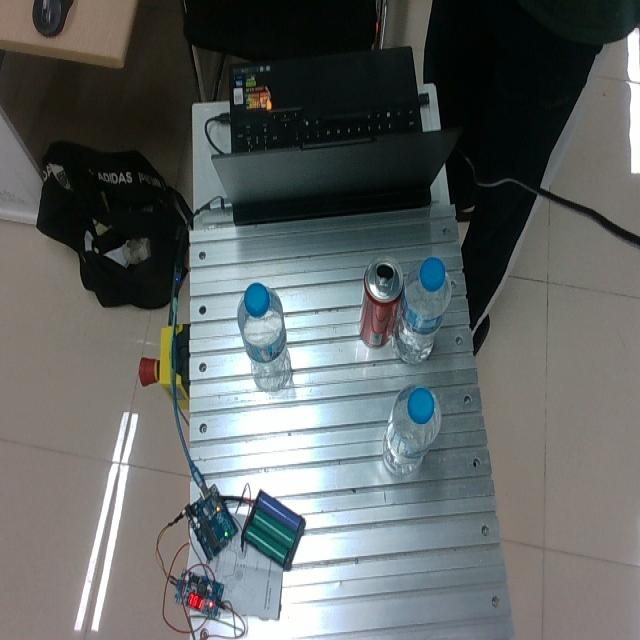coca: (358, 256, 404, 349)
lavie: (391, 259, 452, 364), (237, 283, 291, 392), (381, 384, 440, 477)
